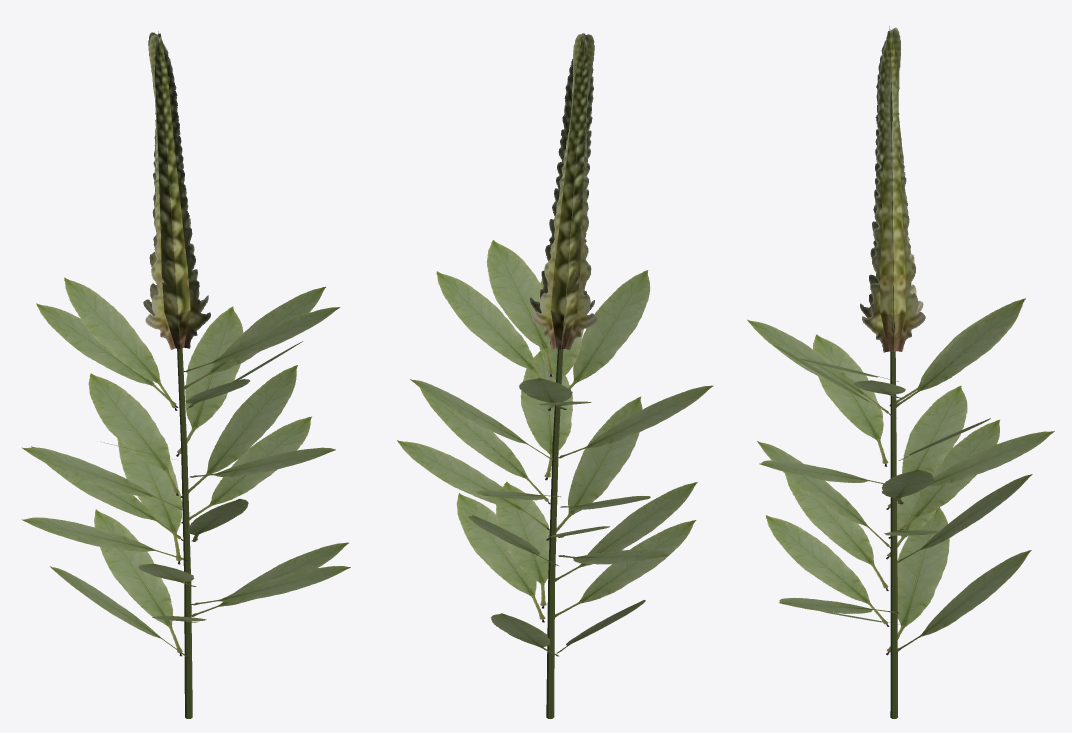
The model's file is category_mesh_flower_3_v1.glb.
The picture shows the model from 3 angles, left to right: view 1: azimuth 30°, elevation 25°; view 2: azimuth 150°, elevation 25°; view 3: azimuth 270°, elevation 25°; orthographic projection. The views are drawn at different scales.
Visible parts, largest first — view 1: category_mesh_flower_3_v1; view 2: category_mesh_flower_3_v1; view 3: category_mesh_flower_3_v1.
Boxes of the visible parts, x1=… form: category_mesh_flower_3_v1: x1=21, y1=31, x2=350, y2=718; category_mesh_flower_3_v1: x1=397, y1=33, x2=713, y2=718; category_mesh_flower_3_v1: x1=747, y1=26, x2=1054, y2=718.
Bounding box in the file's own units: 0.3069 × 0.6952 × 0.2927.
1 material, 1 textured.
